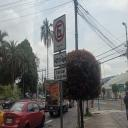NoEstacionar: (54, 20, 66, 43)
